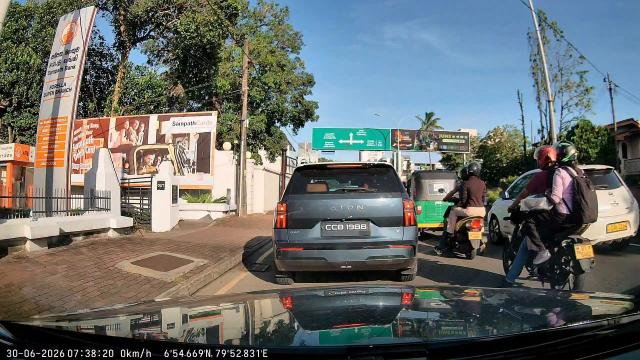number plate: (320, 218, 381, 244), (569, 244, 599, 262)
